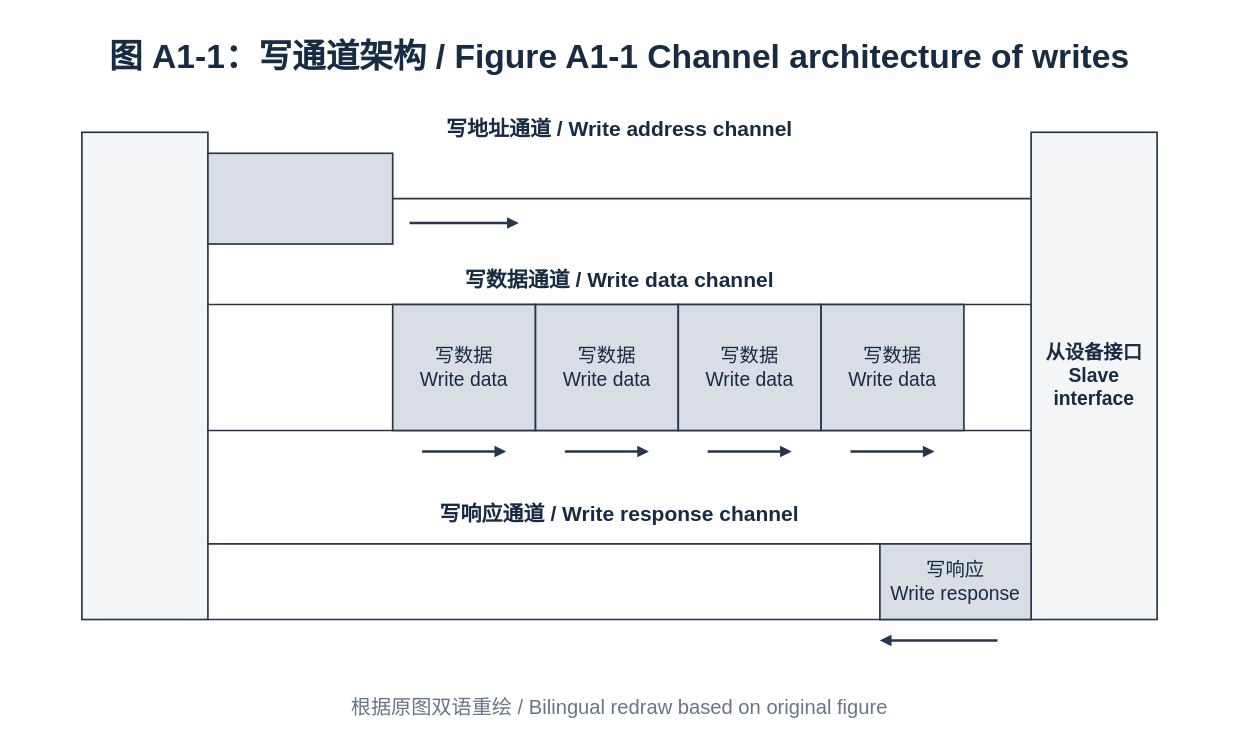
The diagram is 1238 pixels wide and 751 high, and some of its shapes have lost their labels. Each missing label, with the centre of its shape:
主设备接口 Master interface: (144,375)
地址和控制 Address and control: (300,198)
